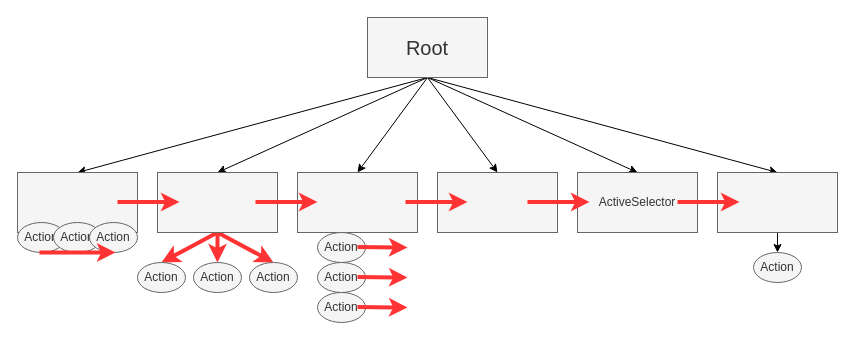
This 855x340 diagram has some shape labels left out. The shapes that lost their labels are listed below. From the top down, each one's centre as x and y in pixels, then its label:
At [77,202]: "Sequence".
At [217,202]: "Selector".
At [357,202]: "Parallel".
At [497,202]: "Filter".
At [777,202]: "Node(Action)".
